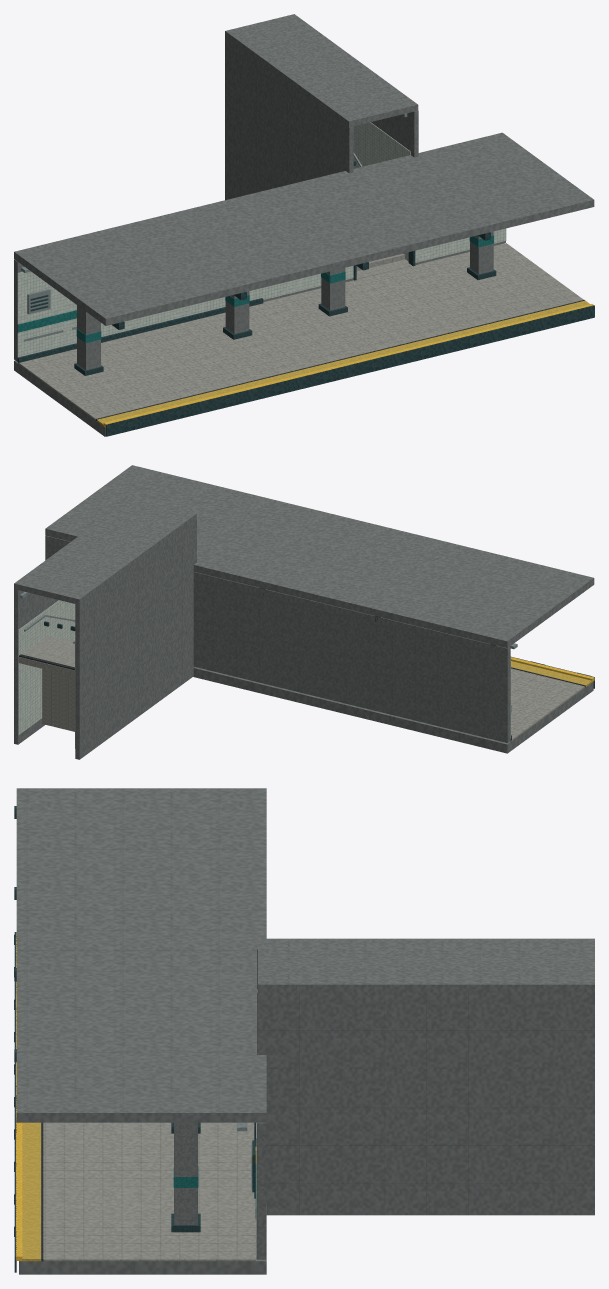
The model's file is PZ_MetroStation_20m_Assembly_Reference.glb.
3 renders of one model, top to bottom at view 1: azimuth 30°, elevation 25°; view 2: azimuth 150°, elevation 25°; view 3: azimuth 270°, elevation 25°, orthographic. The views are drawn at different scales.
Visible parts, largest first — view 1: PZ_EXAMPLE_20M__Bay00_Straight__Bay00_Straight__PZ_STRAIGHT_ (×10), PZ_EXAMPLE_20M__Bay01_Stair__Bay01_Stair__PZ_STAIRS_10M__Sta (×4), PZ_EXAMPLE_20M__Bay01_Stair__Bay01_Stair__PZ_STAIRS_10M__Str, PZ_EXAMPLE_20M__Bay01_Stair__Bay01_Stair__PZ_STAIRS_10M__Flo, PZ_EXAMPLE_20M__Bay01_Stair__Bay01_Stair__PZ_STAIRS_10M__Saf (×3), PZ_EXAMPLE_20M__Bay01_Stair__Bay01_Stair__PZ_STAIRS_10M__Wal (×2), PZ_EXAMPLE_20M__Bay01_Stair__Bay01_Stair__PZ_STAIRS_10M__Pil (×2); view 2: PZ_EXAMPLE_20M__Bay00_Straight__Bay00_Straight__PZ_STRAIGHT_ (×5), PZ_EXAMPLE_20M__Bay01_Stair__Bay01_Stair__PZ_STAIRS_10M__Sta (×6), PZ_EXAMPLE_20M__Bay01_Stair__Bay01_Stair__PZ_STAIRS_10M__Str (×3); view 3: PZ_EXAMPLE_20M__Bay01_Stair__Bay01_Stair__PZ_STAIRS_10M__Sta (×2), PZ_EXAMPLE_20M__Bay01_Stair__Bay01_Stair__PZ_STAIRS_10M__Str (×3), PZ_EXAMPLE_20M__Bay00_Straight__Bay00_Straight__PZ_STRAIGHT_, PZ_EXAMPLE_20M__Bay01_Stair__Bay01_Stair__PZ_STAIRS_10M__Flo, PZ_EXAMPLE_20M__Bay01_Stair__Bay01_Stair__PZ_STAIRS_10M__Saf (×2), PZ_EXAMPLE_20M__Bay01_Stair__Bay01_Stair__PZ_STAIRS_10M__Pil.
Boxes of the visible parts, box(x1,y1,x2,y2) form: PZ_EXAMPLE_20M__Bay00_Straight__Bay00_Straight__PZ_STRAIGHT_ (×10): box(14, 192, 350, 436); PZ_EXAMPLE_20M__Bay01_Stair__Bay01_Stair__PZ_STAIRS_10M__Sta (×4): box(225, 14, 418, 281); PZ_EXAMPLE_20M__Bay01_Stair__Bay01_Stair__PZ_STAIRS_10M__Str: box(258, 132, 594, 266); PZ_EXAMPLE_20M__Bay01_Stair__Bay01_Stair__PZ_STAIRS_10M__Flo: box(263, 243, 583, 359); PZ_EXAMPLE_20M__Bay01_Stair__Bay01_Stair__PZ_STAIRS_10M__Saf (×3): box(341, 300, 594, 376); PZ_EXAMPLE_20M__Bay01_Stair__Bay01_Stair__PZ_STAIRS_10M__Wal (×2): box(262, 228, 506, 299); PZ_EXAMPLE_20M__Bay01_Stair__Bay01_Stair__PZ_STAIRS_10M__Pil (×2): box(321, 231, 493, 310); PZ_EXAMPLE_20M__Bay00_Straight__Bay00_Straight__PZ_STRAIGHT_ (×5): box(276, 521, 594, 753); PZ_EXAMPLE_20M__Bay01_Stair__Bay01_Stair__PZ_STAIRS_10M__Sta (×6): box(14, 498, 196, 759); PZ_EXAMPLE_20M__Bay01_Stair__Bay01_Stair__PZ_STAIRS_10M__Str (×3): box(45, 465, 362, 696); PZ_EXAMPLE_20M__Bay01_Stair__Bay01_Stair__PZ_STAIRS_10M__Sta (×2): box(257, 938, 594, 1215); PZ_EXAMPLE_20M__Bay01_Stair__Bay01_Stair__PZ_STAIRS_10M__Str (×3): box(16, 950, 266, 1274); PZ_EXAMPLE_20M__Bay00_Straight__Bay00_Straight__PZ_STRAIGHT_: box(16, 788, 266, 950); PZ_EXAMPLE_20M__Bay01_Stair__Bay01_Stair__PZ_STAIRS_10M__Flo: box(43, 1122, 255, 1261); PZ_EXAMPLE_20M__Bay01_Stair__Bay01_Stair__PZ_STAIRS_10M__Saf (×2): box(16, 1094, 40, 1261); PZ_EXAMPLE_20M__Bay01_Stair__Bay01_Stair__PZ_STAIRS_10M__Pil: box(174, 1122, 197, 1224).
Size of the model in its own units: 20 by 6.66 by 15.13.
12 materials, 12 textured.
